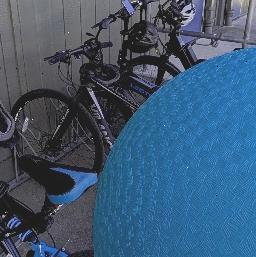algae: (94, 43, 256, 257)
